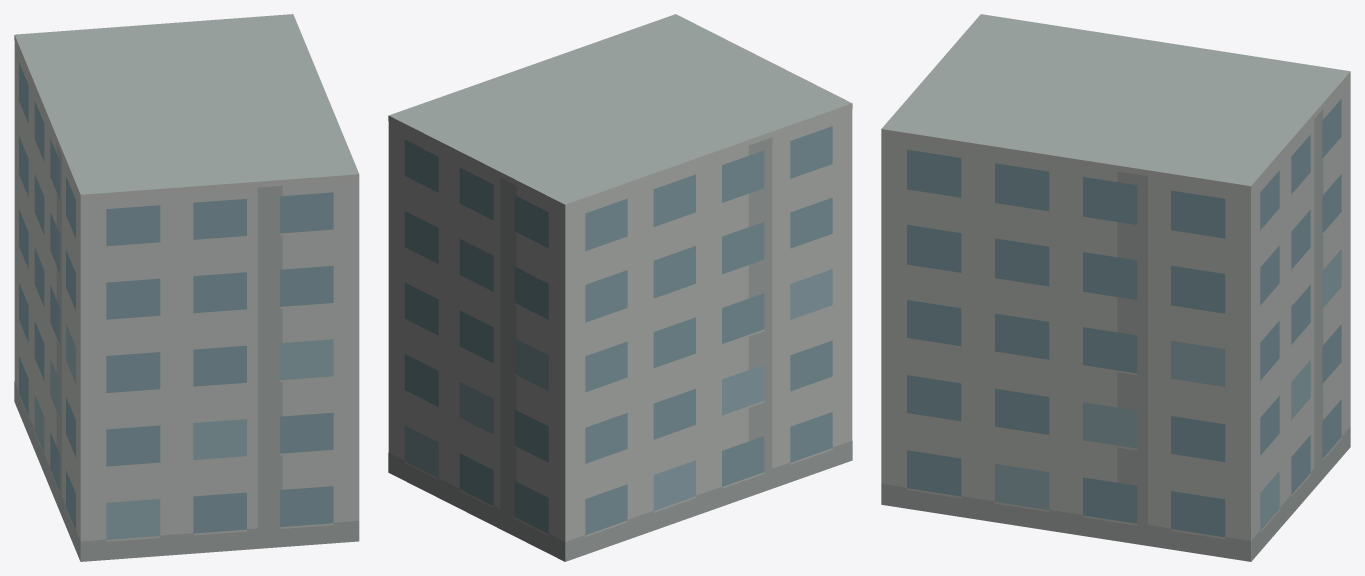
Rendered from residential-e9367716-bfca-4d73-9dcd-835ef915737a.glb.
3 renders of one model, left to right at view 1: azimuth 30°, elevation 25°; view 2: azimuth 150°, elevation 25°; view 3: azimuth 270°, elevation 25°, orthographic. The views are drawn at different scales.
Parts seen in each view (by area): view 1: residential-e9367716-bfca-4d73-9dcd-835ef915737a.tmp; view 2: residential-e9367716-bfca-4d73-9dcd-835ef915737a.tmp; view 3: residential-e9367716-bfca-4d73-9dcd-835ef915737a.tmp.
Boxes of the visible parts, box(x1,y1,x2,y2) form: residential-e9367716-bfca-4d73-9dcd-835ef915737a.tmp: box(14, 14, 359, 561); residential-e9367716-bfca-4d73-9dcd-835ef915737a.tmp: box(388, 14, 852, 561); residential-e9367716-bfca-4d73-9dcd-835ef915737a.tmp: box(881, 14, 1350, 561).
Size of the model in its own units: 15 by 15.25 by 17.28.
